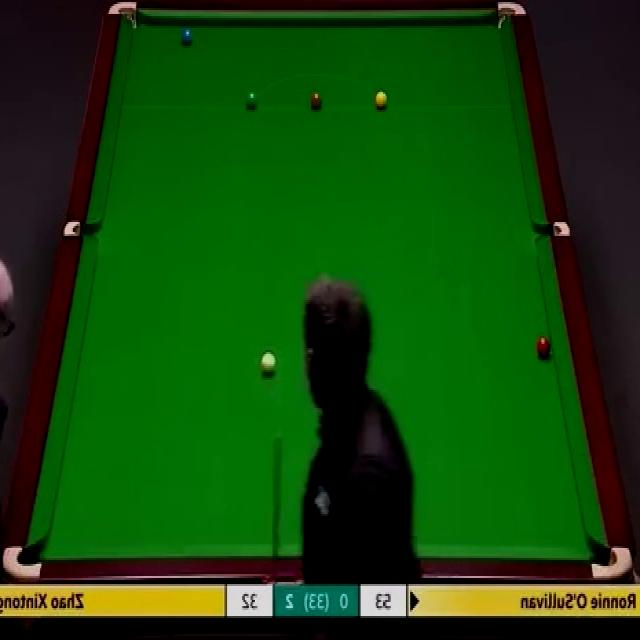blue-ball: (181, 27, 194, 44)
brown-ball: (309, 88, 324, 110)
green-ball: (245, 90, 260, 110)
red-ball: (535, 336, 552, 358)
white-ball: (259, 348, 277, 376)
yellow-ball: (375, 88, 388, 109)
